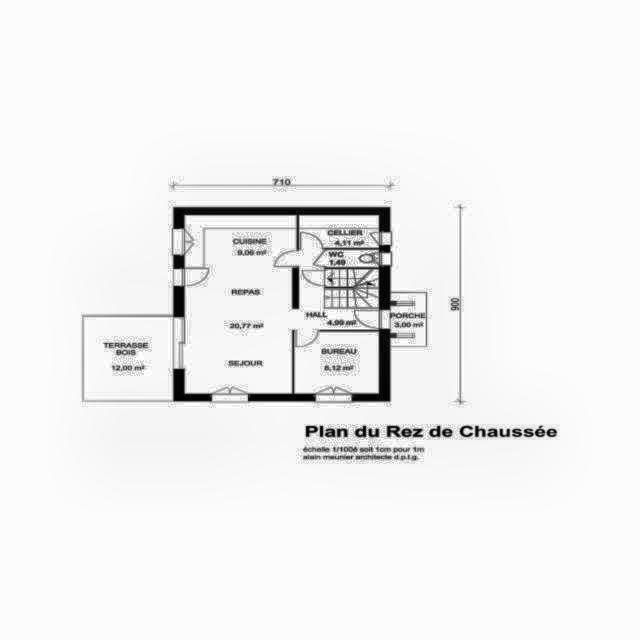room: (184, 215, 297, 394), (292, 249, 379, 330), (294, 331, 379, 394), (299, 215, 379, 248), (326, 249, 379, 268)
